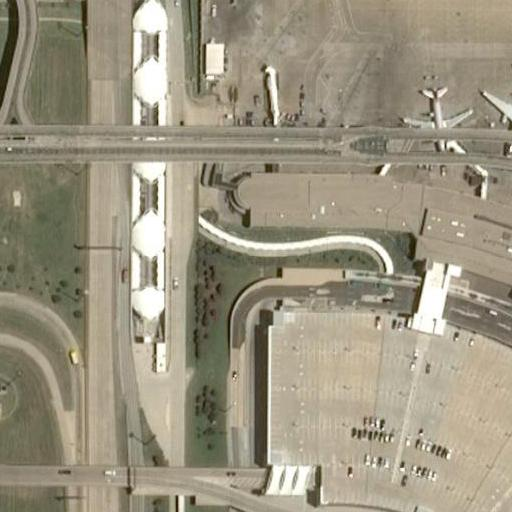Aircraft: (392, 73, 471, 154), (471, 48, 512, 148)
